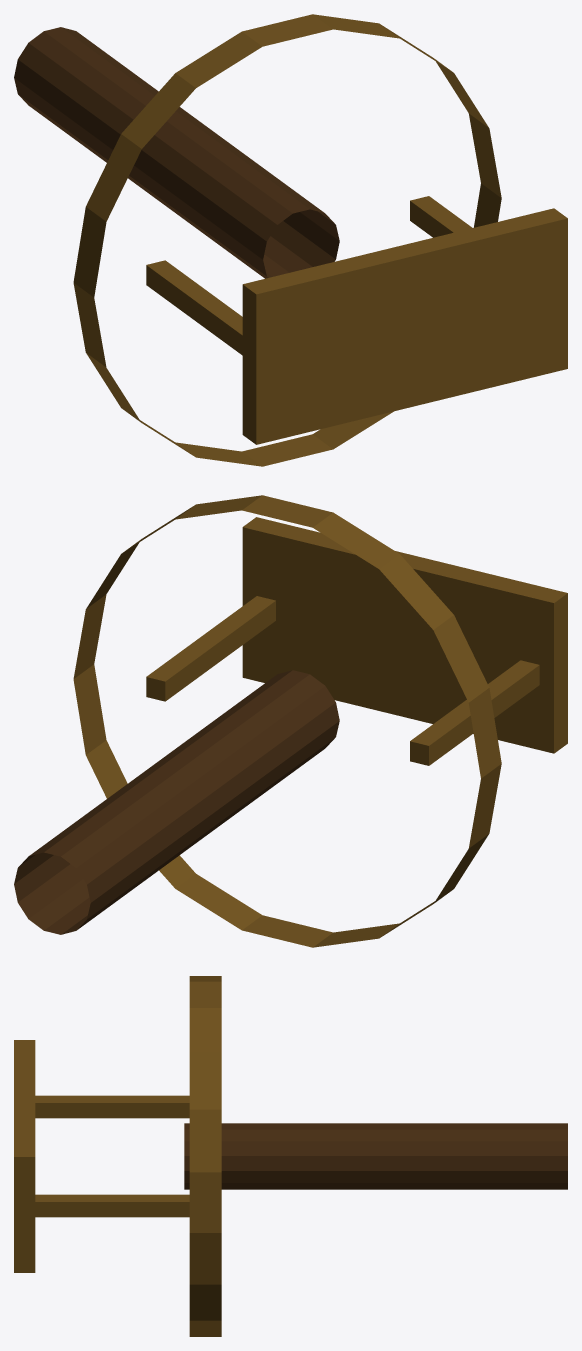
The model's file is SM_LorienTalan.obj.
3 views of the same model, one above another, from view 1: azimuth 30°, elevation 25°; view 2: azimuth 150°, elevation 25°; view 3: azimuth 270°, elevation 25° (orthographic). The views are drawn at different scales.
Parts seen in each view (by area): view 1: SM_LorienTalan; view 2: SM_LorienTalan; view 3: SM_LorienTalan.
Boxes of the visible parts, bbox=[...] form: SM_LorienTalan: bbox=[14, 14, 567, 466]; SM_LorienTalan: bbox=[14, 495, 567, 947]; SM_LorienTalan: bbox=[14, 976, 567, 1336].
Size of the model in its own units: 340 by 335 by 520.
